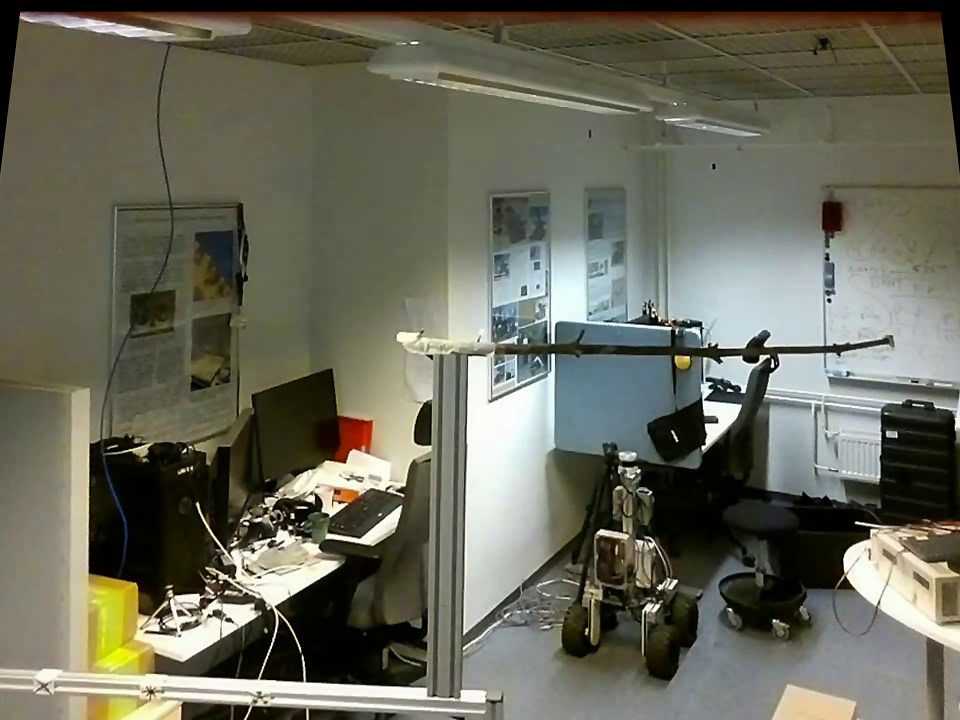aluminum_frame: (1, 665, 487, 716), (423, 356, 468, 697), (820, 364, 956, 395), (816, 178, 831, 373), (819, 179, 959, 192), (480, 692, 506, 718)
branch: (503, 323, 884, 368)
